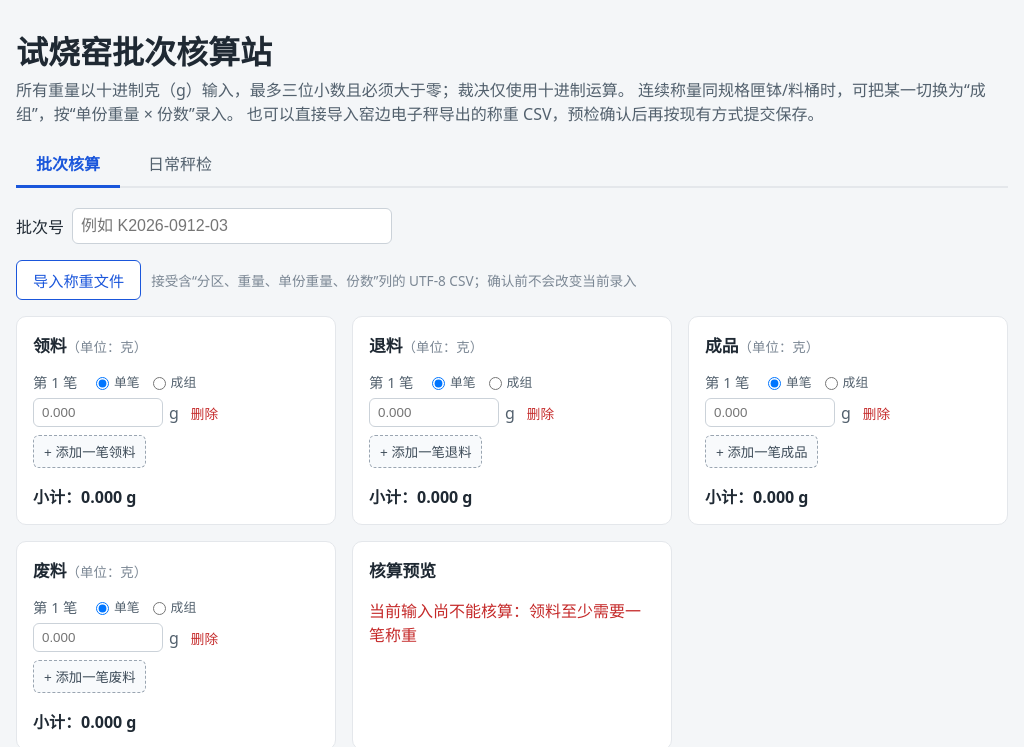
Test: App 核算站 › 以十进制字符串提交四个分区，展示原始行/合计/差额/允许差/裁决
Type "K-7" into the field with test id "batch-no" showing "批次号" at (232, 226), box [72, 208, 392, 244]
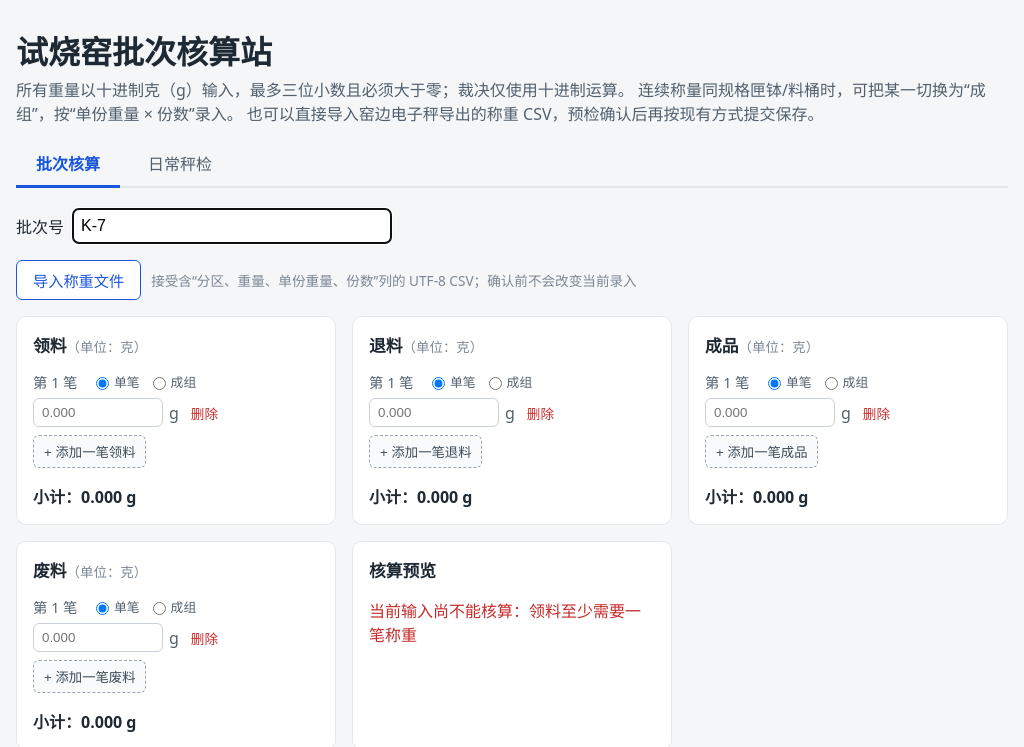
Type "1000" into the field named "领料第1笔重量（克）" at (98, 413), box [33, 398, 163, 427]
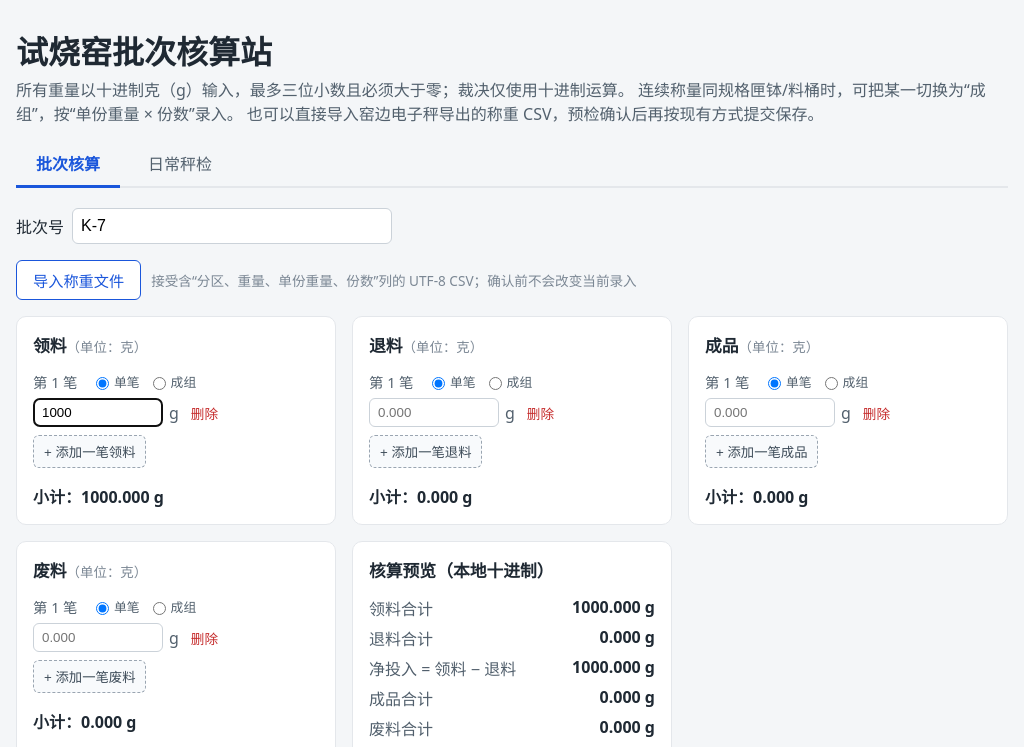
Type "1005" into the field named "成品第1笔重量（克）" at (770, 413), box [705, 398, 835, 427]
(page scrolled)
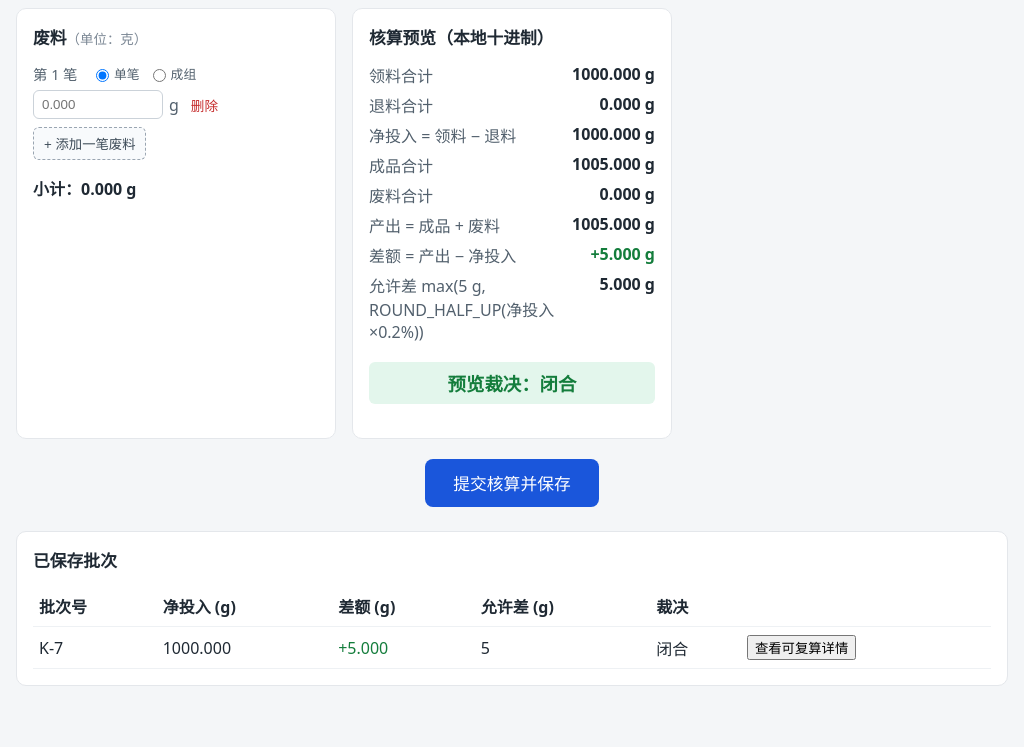
expect the text with test id "preview-verdict" shows "闭合": met, box [540, 371, 576, 396]
expect the text with test id "preview-difference" shows "+5.000": met, box [590, 243, 641, 265]
Click the button with test id "submit" at (512, 483), box [425, 459, 599, 507]
(page scrolled)
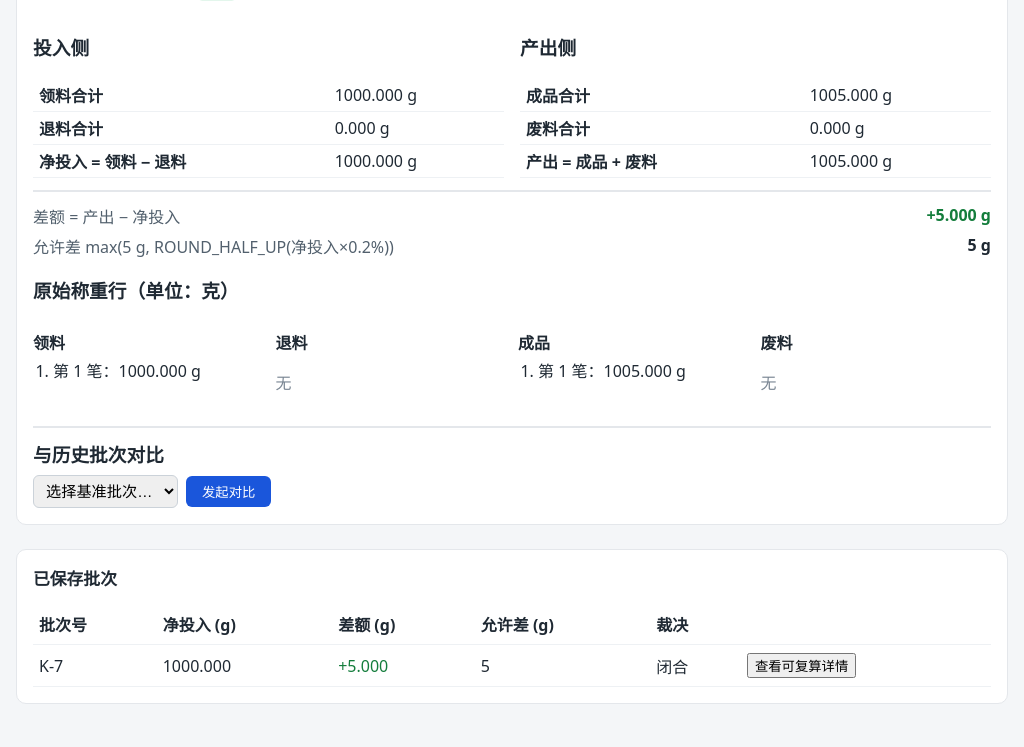
expect the text with test id "detail-difference" shows "+5.000": met, box [926, 204, 977, 226]
expect the cell with test id "detail-net" shows "1000.000": met, box [335, 150, 403, 172]
expect the text with test id "detail-tolerance" shows "5": met, box [968, 234, 977, 256]
